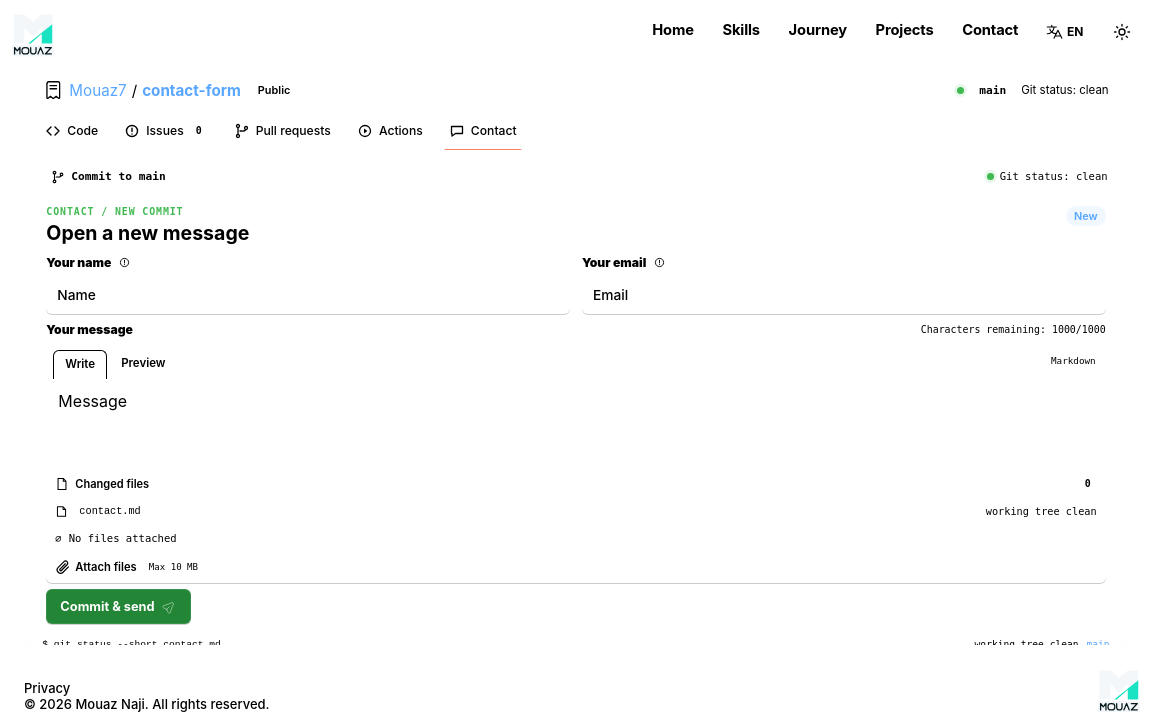
Test: contact page form › presents the form as a GitHub repository workflow with a working preview
Check: the text with class "contact-repository-owner" reads "Mouaz7", box [69, 81, 127, 100]
Check: the text "contact-form" is shown, box [142, 81, 241, 100]
In the text box with id "contact-mobile-message": (576, 424) [46, 378, 1106, 470], type "Preview this commit message."
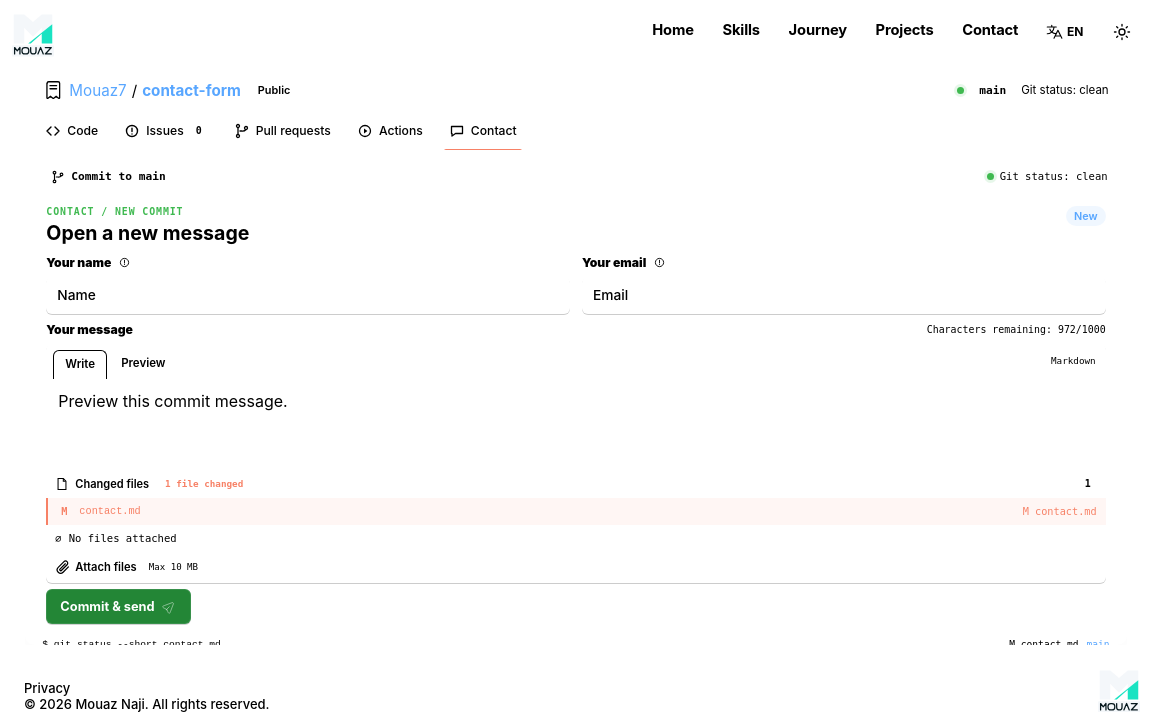
Click the tab with id "contact-mobile-preview-tab": (143, 364) [109, 349, 178, 378]
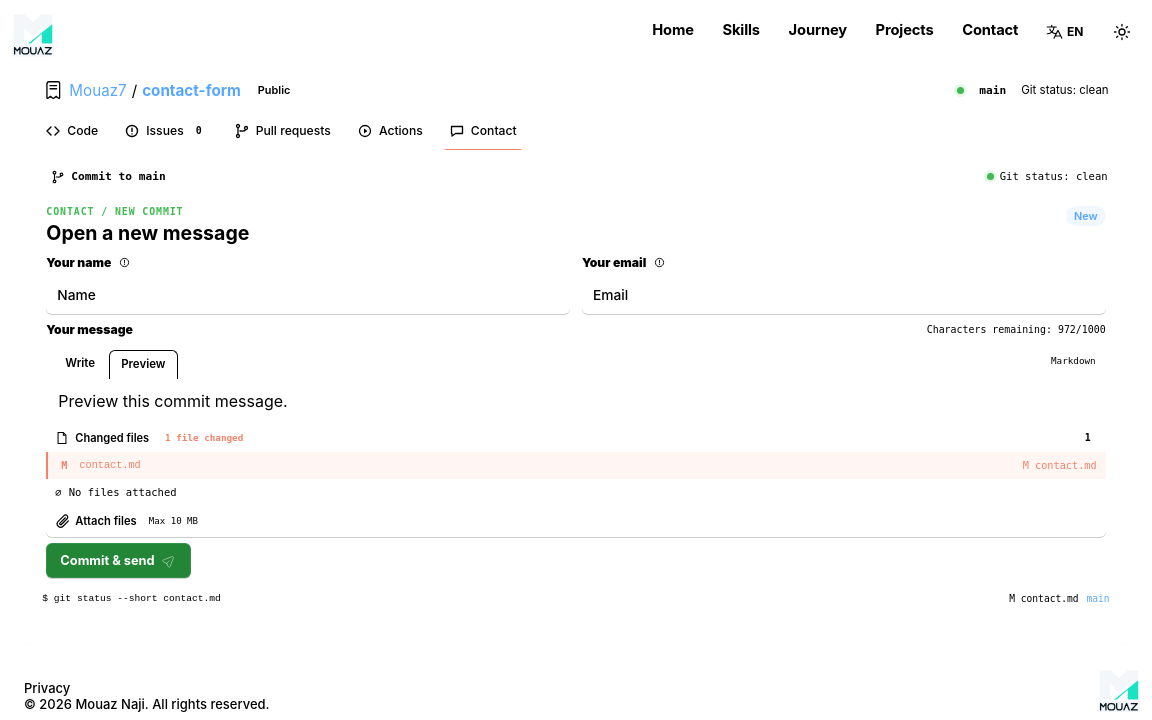
Check: the text "Preview this commit message." is shown, box [58, 389, 288, 413]
Check: the tab with id "contact-mobile-preview-tab" is selected, box [109, 350, 178, 379]
